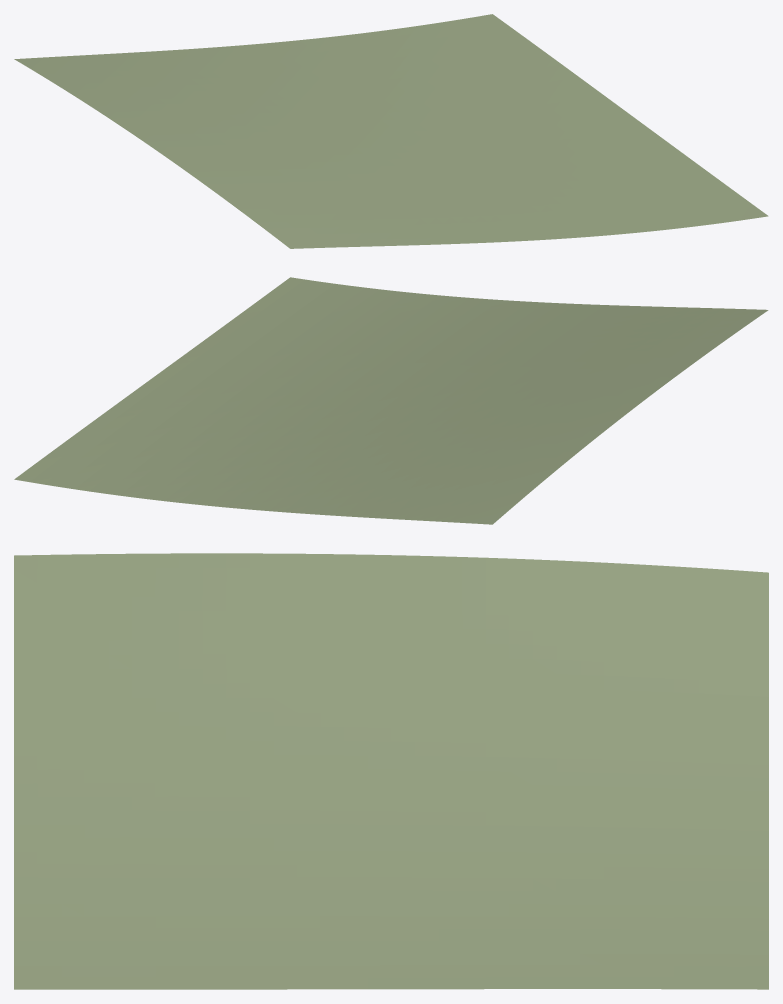
Rendered from expanse-18-17.glb.
3 renders of one model, top to bottom at view 1: azimuth 30°, elevation 25°; view 2: azimuth 150°, elevation 25°; view 3: azimuth 270°, elevation 25°, orthographic. The views are drawn at different scales.
Visible parts, largest first — view 1: expanse-18-17; view 2: expanse-18-17; view 3: expanse-18-17.
Boxes of the visible parts, box(x1,y1,x2,y2) form: expanse-18-17: box(14, 14, 768, 248); expanse-18-17: box(14, 277, 768, 524); expanse-18-17: box(14, 553, 768, 989).
Size of the model in its own units: 256 by 43.84 by 256.
